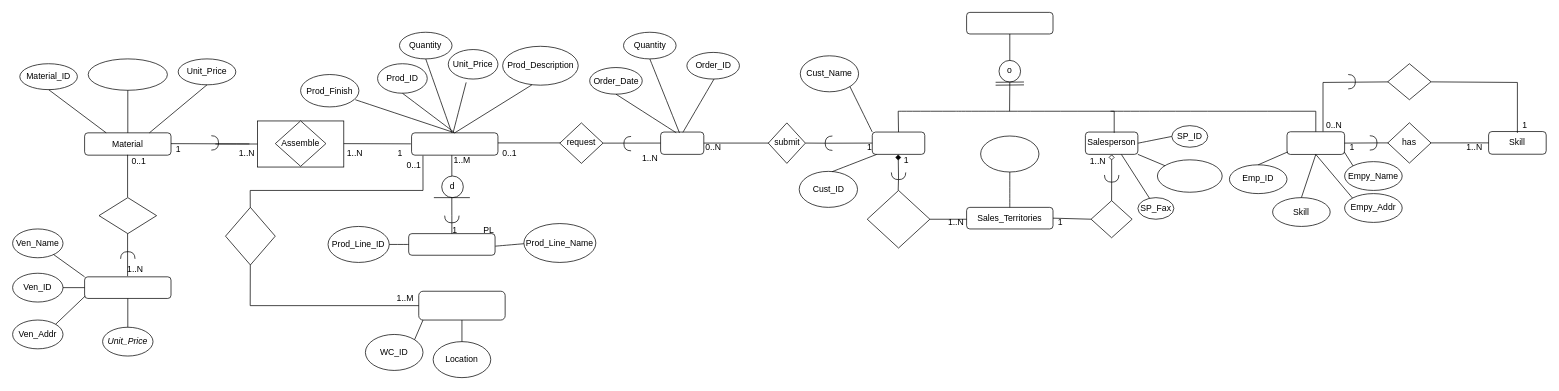
This 1559x391 diagram has some shape labels left out. The centre of each missing label's shape, as x and y in pixels:
Customer: point 898,142
does buisness: point 898,219
Employee: point 1315,142
masters: point 1409,81
Order: point 682,142
Person: point 1009,23
Produced: point 250,236
Product: point 454,143
Product_Lines: point 451,244
serves: point 1111,219
SP_Telephone: point 1189,175
Supply: point 127,215
Territory_ID: point 1009,153
Unit_of_Measure: point 127,74
Vendors: point 127,287
Work Center: point 461,305
